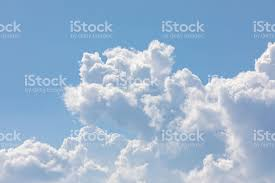sky: (2, 3, 275, 181)
